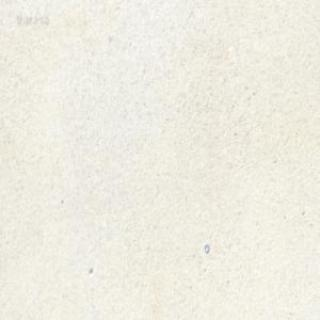Washertrack_idkeyframe: (203, 243, 209, 253)
